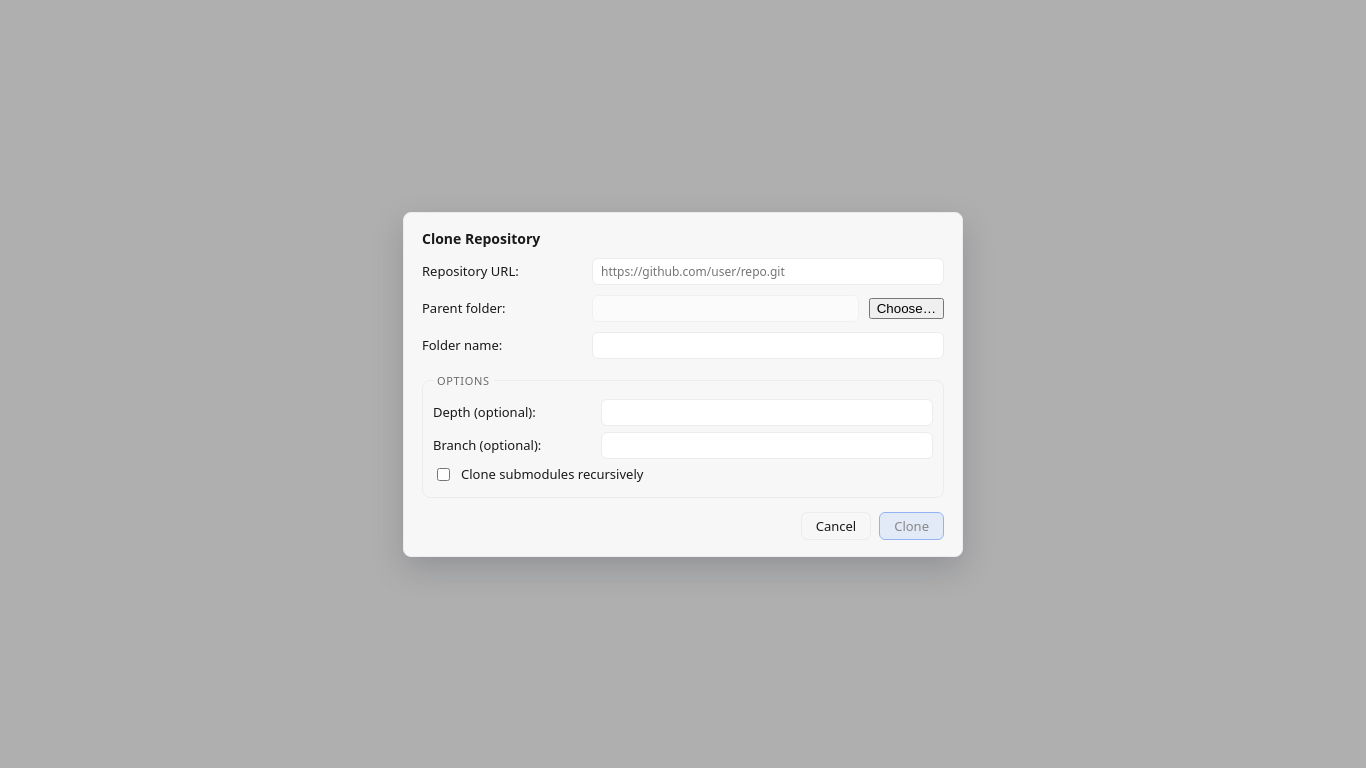
Test: CloneDialog › keeps Clone disabled until the URL and the destination are set
The image size is (1366, 768).
Expected: the button "Clone" is disabled, top-left (879, 512), bottom-right (944, 540)
Type "https://example.com/r.git" into the field labelled "Repository URL" at (768,271), box top-left (592, 258), bottom-right (944, 284)
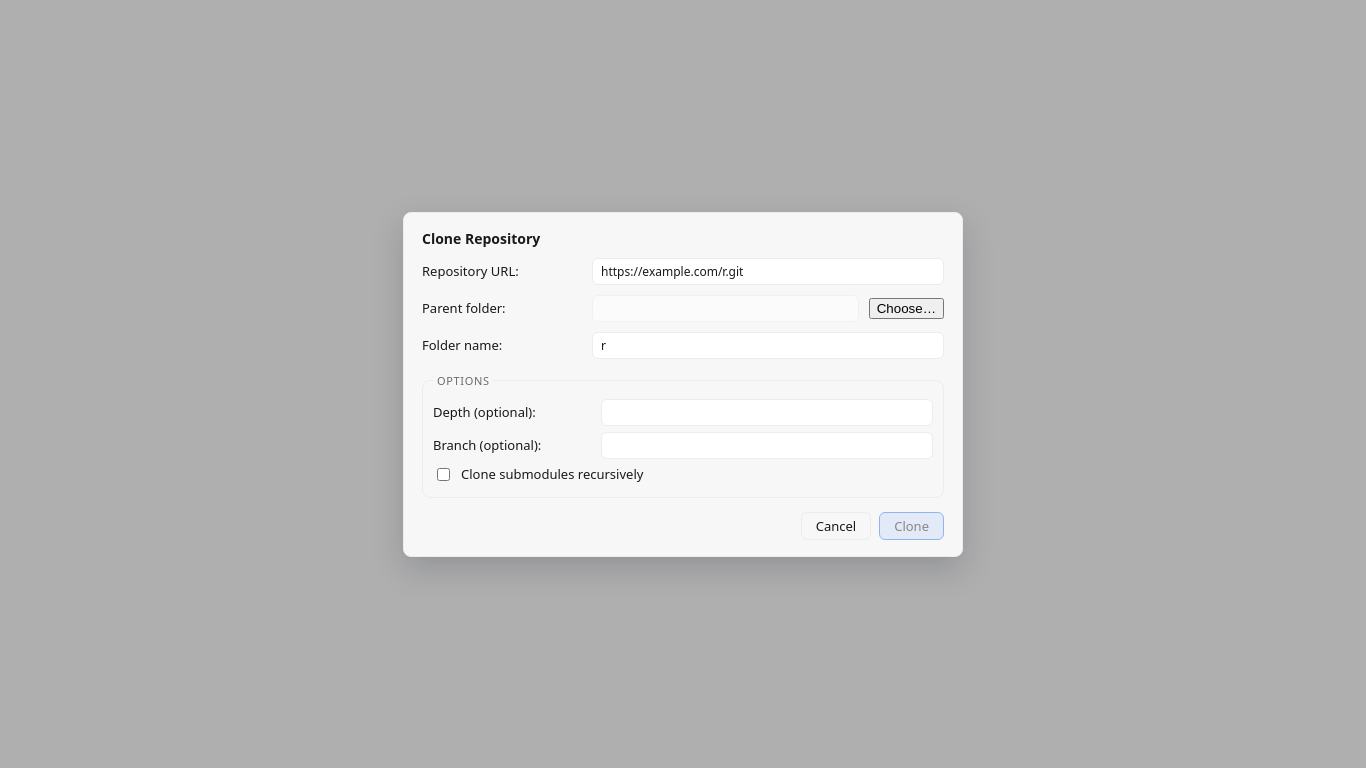
Expected: the button "Clone" is disabled, top-left (879, 512), bottom-right (944, 540)
Click the button "Choose…" at (906,308), box top-left (869, 298), bottom-right (944, 318)
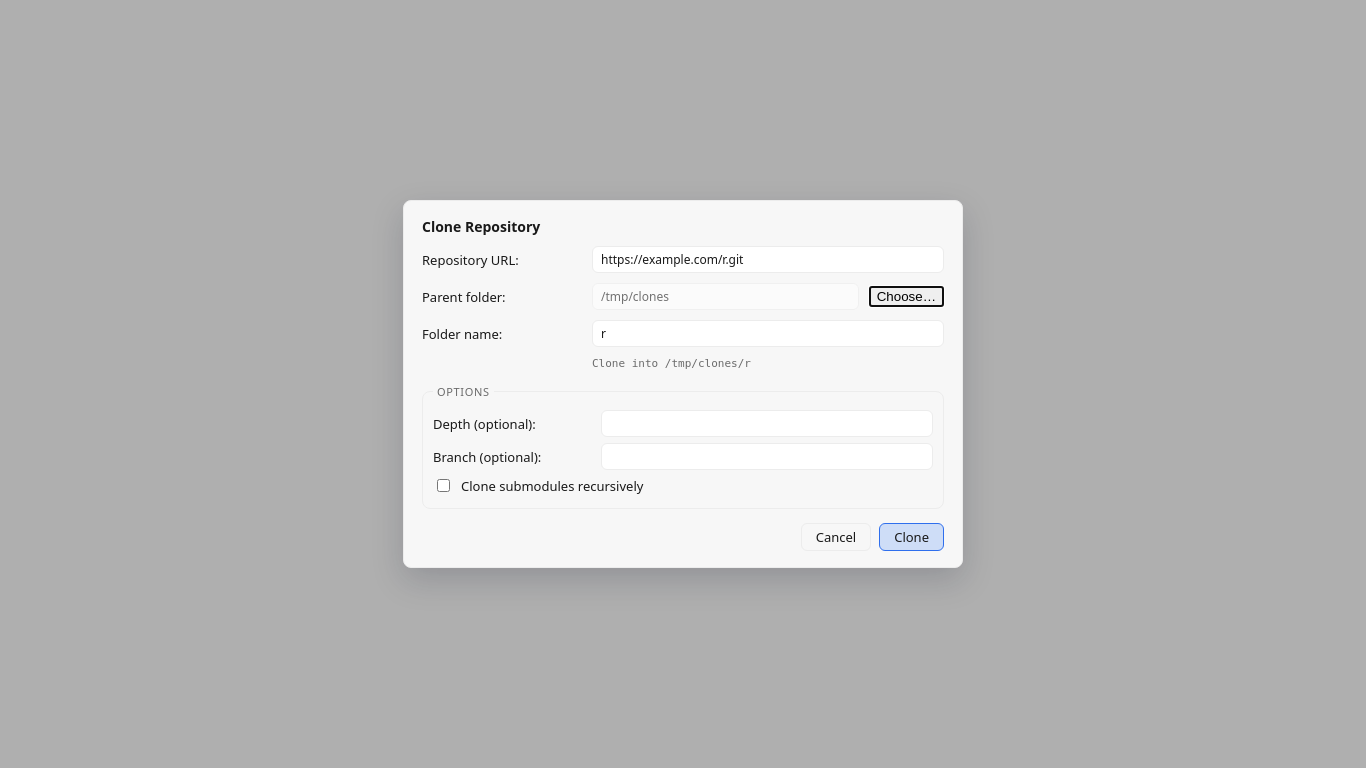
Result: the button "Clone" is enabled at top-left (879, 523), bottom-right (944, 551)
